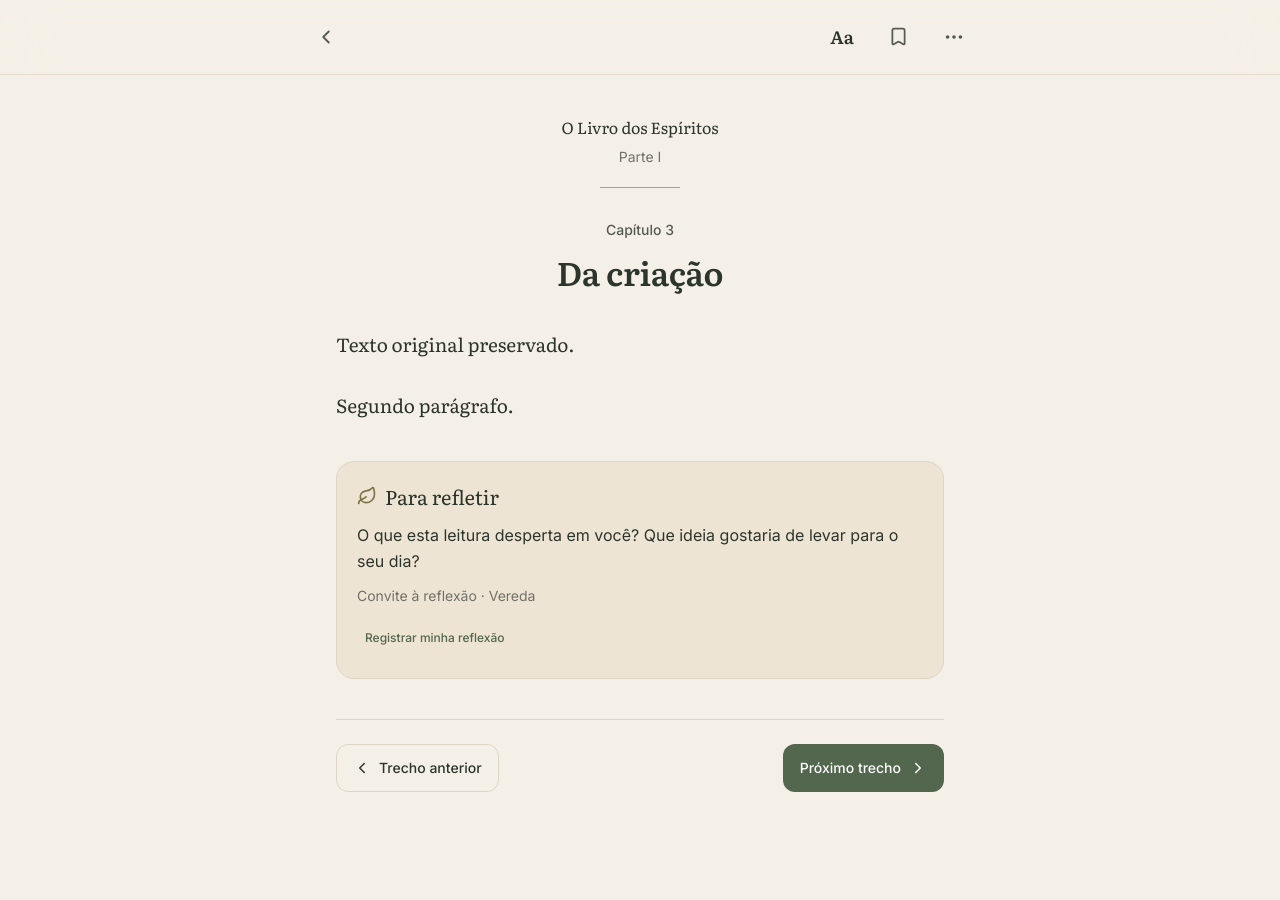
Test case: editorial product interactions › separates Aa typography controls from reading navigation options
Click the button with aria-label "Preferências de texto" at (842, 37), box top-left (820, 15), bottom-right (864, 59)
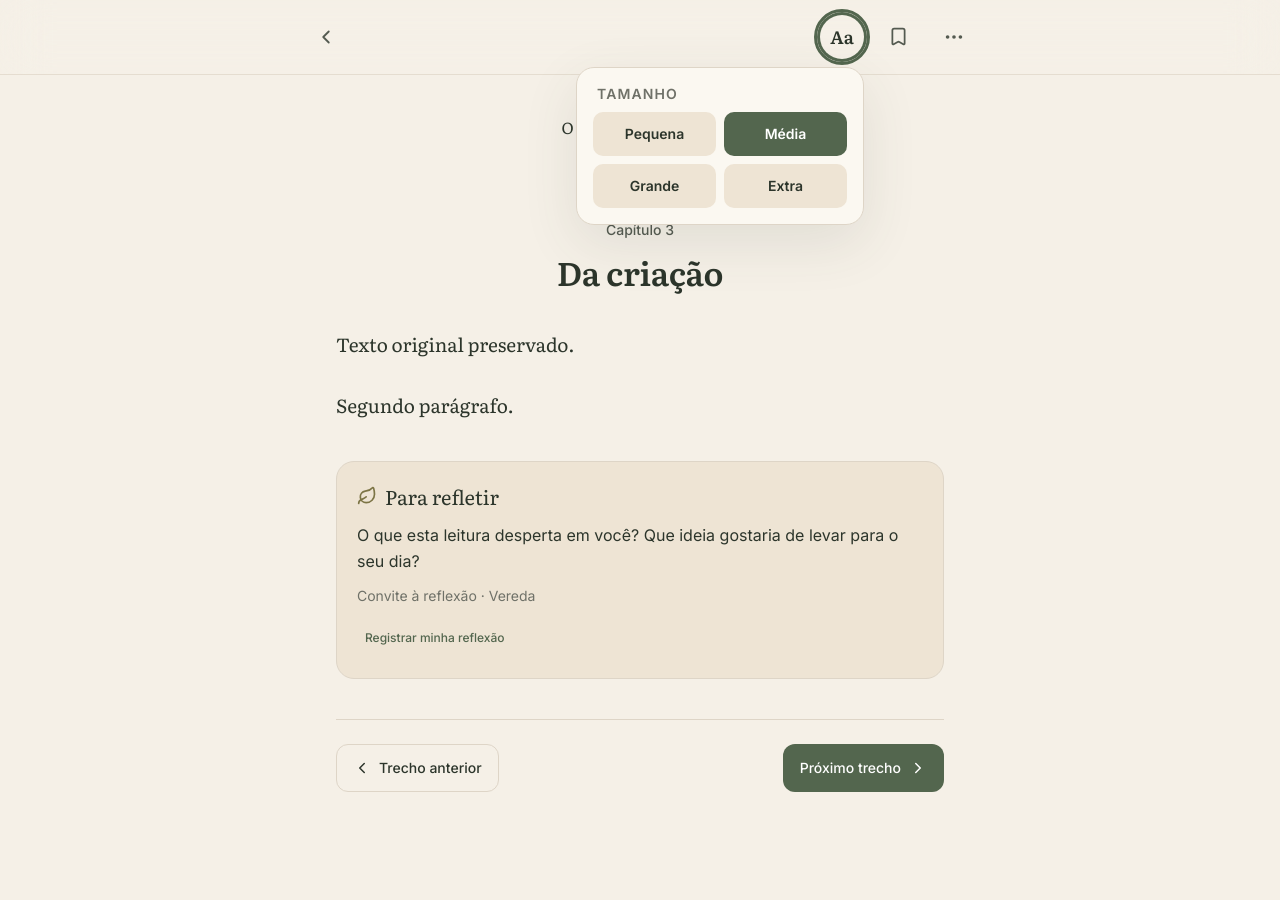
Expected: the button "Índice da obra" is not shown
Now the element named "Tamanho do texto" is shown, box top-left (576, 67), bottom-right (864, 225)
Click the button named "Opções de leitura" at (954, 37), box top-left (932, 15), bottom-right (976, 59)
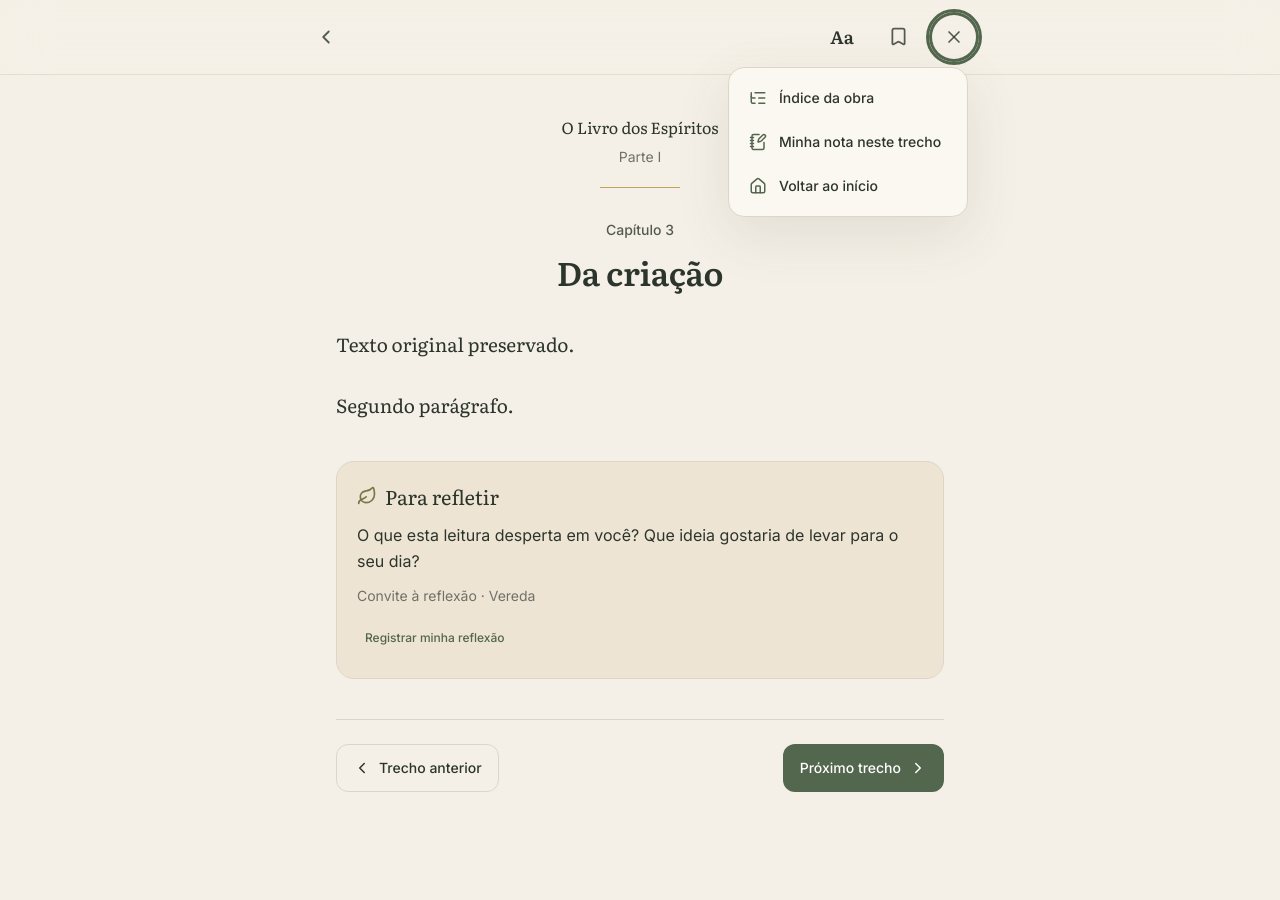
Now the button "Índice da obra" is shown, box top-left (737, 76), bottom-right (959, 120)
